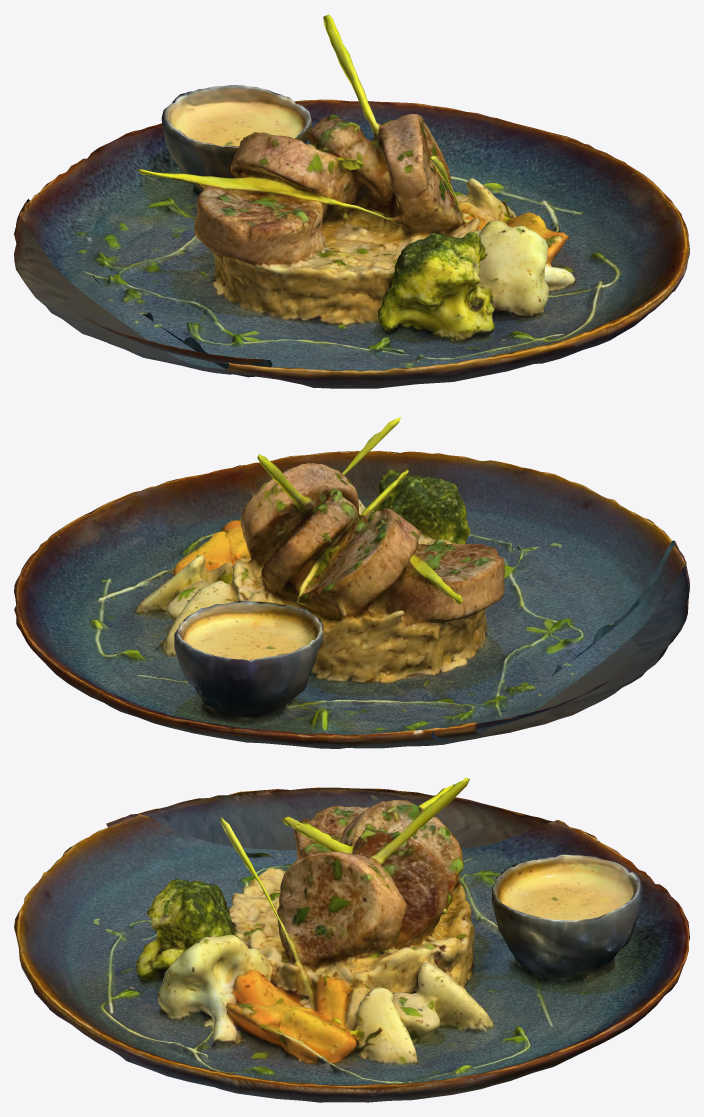
Rendered from filet.glb.
The picture shows the model from 3 angles, top to bottom: view 1: azimuth 30°, elevation 25°; view 2: azimuth 150°, elevation 25°; view 3: azimuth 270°, elevation 25°; orthographic projection.
Parts seen in each view (by area): view 1: /ObjectCapture/Geometry/Mesh; view 2: /ObjectCapture/Geometry/Mesh; view 3: /ObjectCapture/Geometry/Mesh.
Boxes of the visible parts, x1,y1,x2,y2 form: /ObjectCapture/Geometry/Mesh: (14, 14, 689, 388); /ObjectCapture/Geometry/Mesh: (14, 417, 689, 748); /ObjectCapture/Geometry/Mesh: (14, 777, 689, 1102).
Size of the model in its own units: 0.2778 by 0.1003 by 0.2736.
2 materials, 2 textured.
